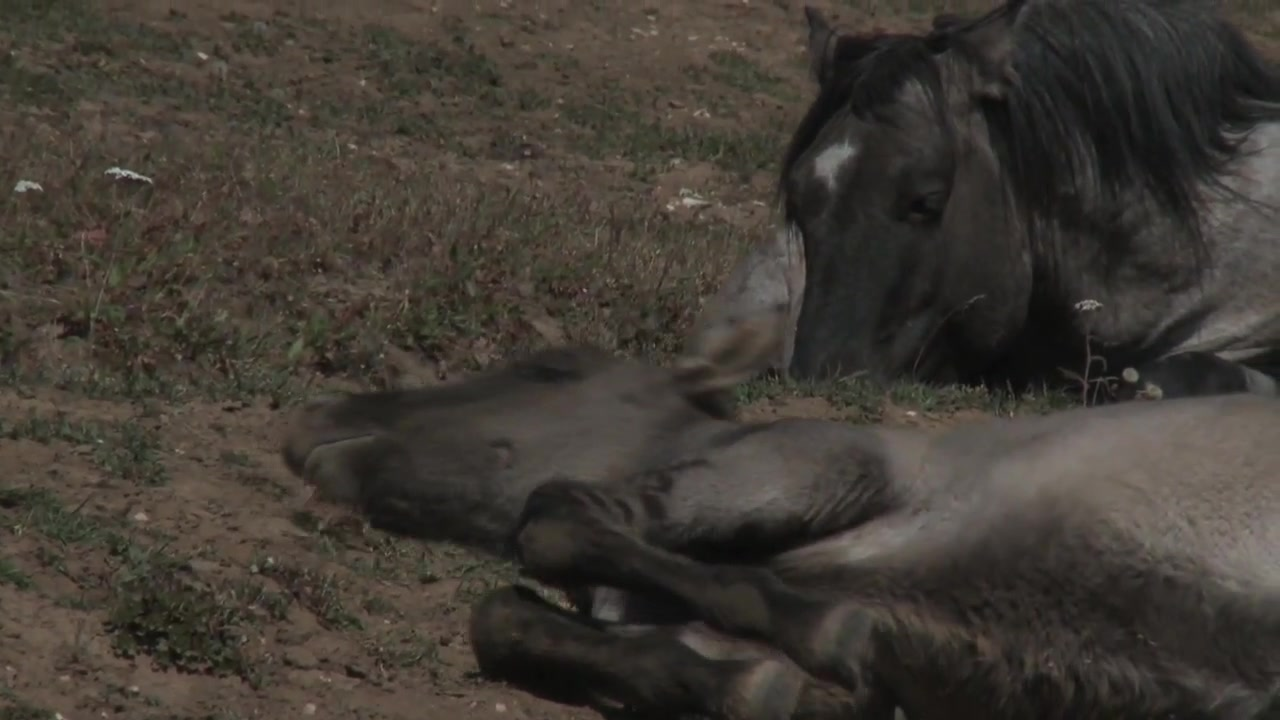horse: (279, 303, 1280, 720), (778, 1, 1280, 399)
